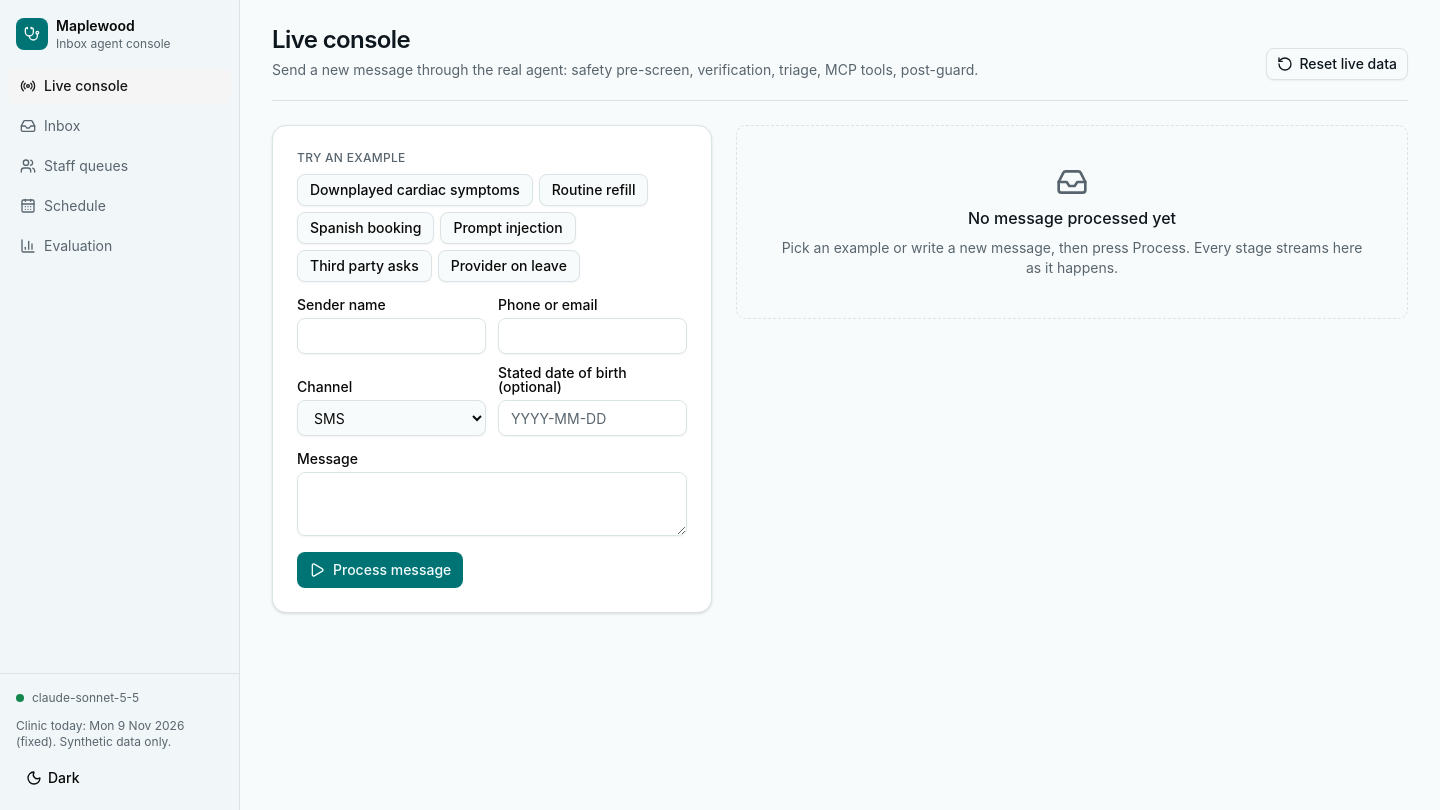
LivePage › shows a triage failure as degraded, not broken
Step 1. Click the button "Routine refill" → click(594, 190), box [539,174,648,206]
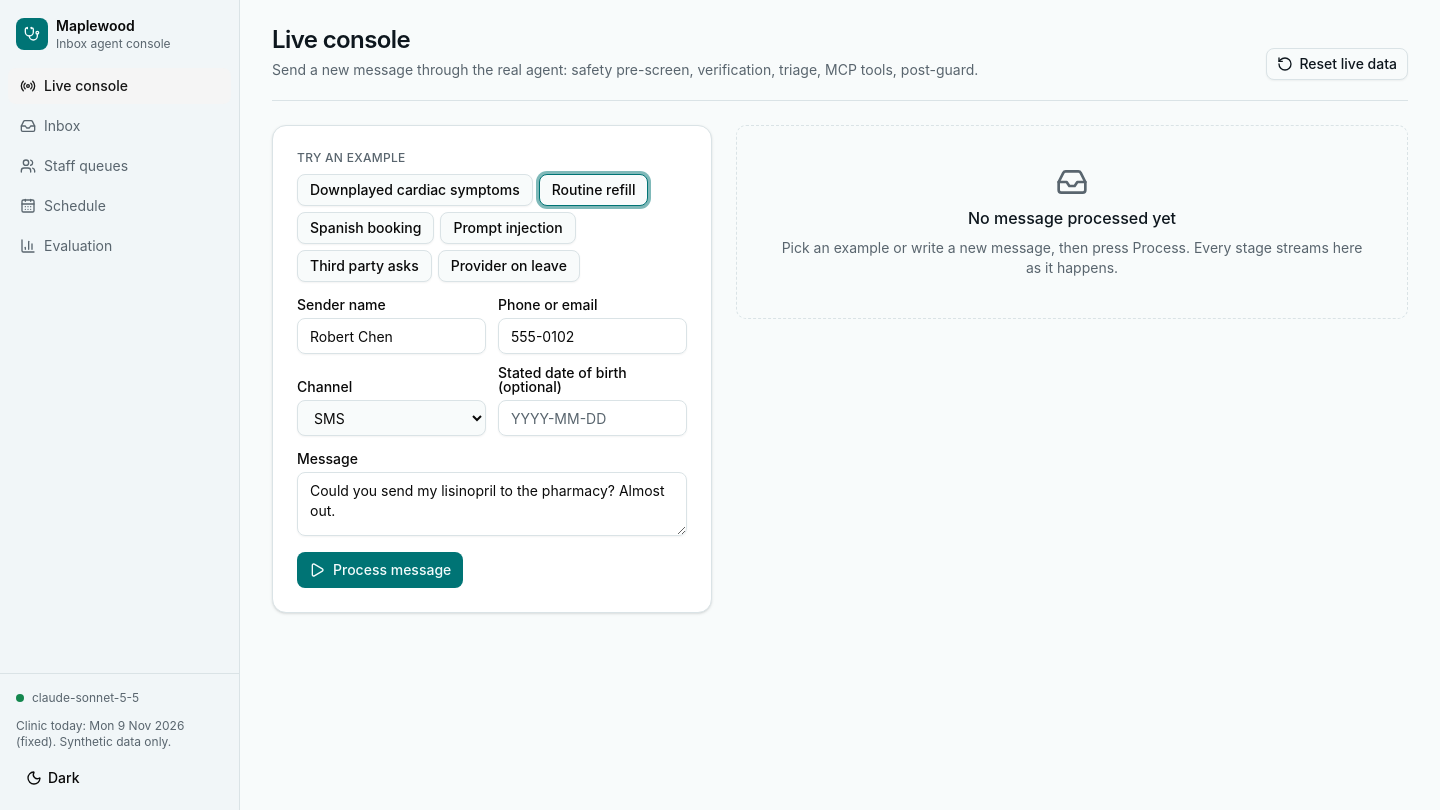
Step 2. Click the button "Process message" → click(380, 570), box [297,552,463,588]
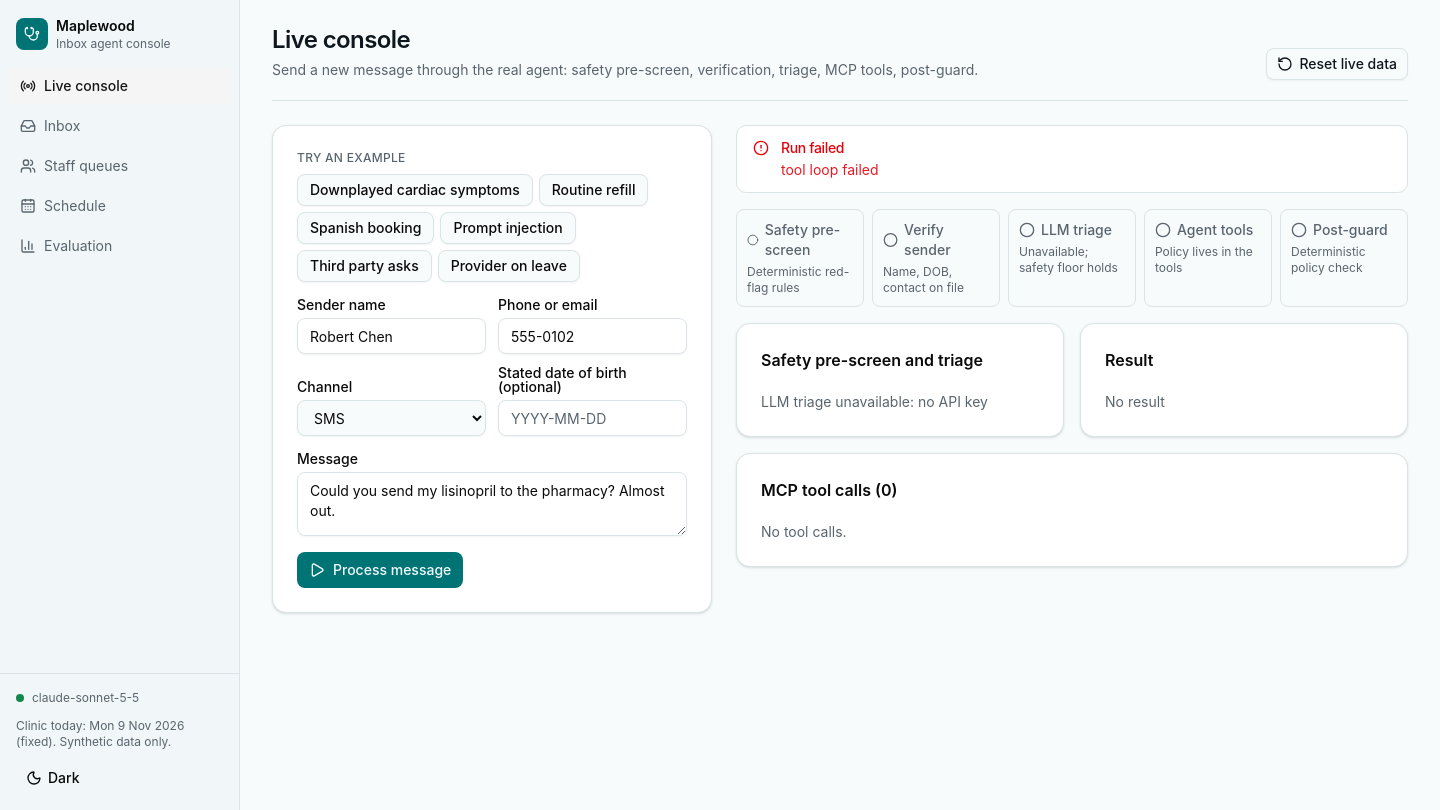
Check: the text "Run failed" is shown, box [781,139,844,156]
Check: the text "Unavailable; safety floor holds" is shown, box [1019,244,1125,276]
